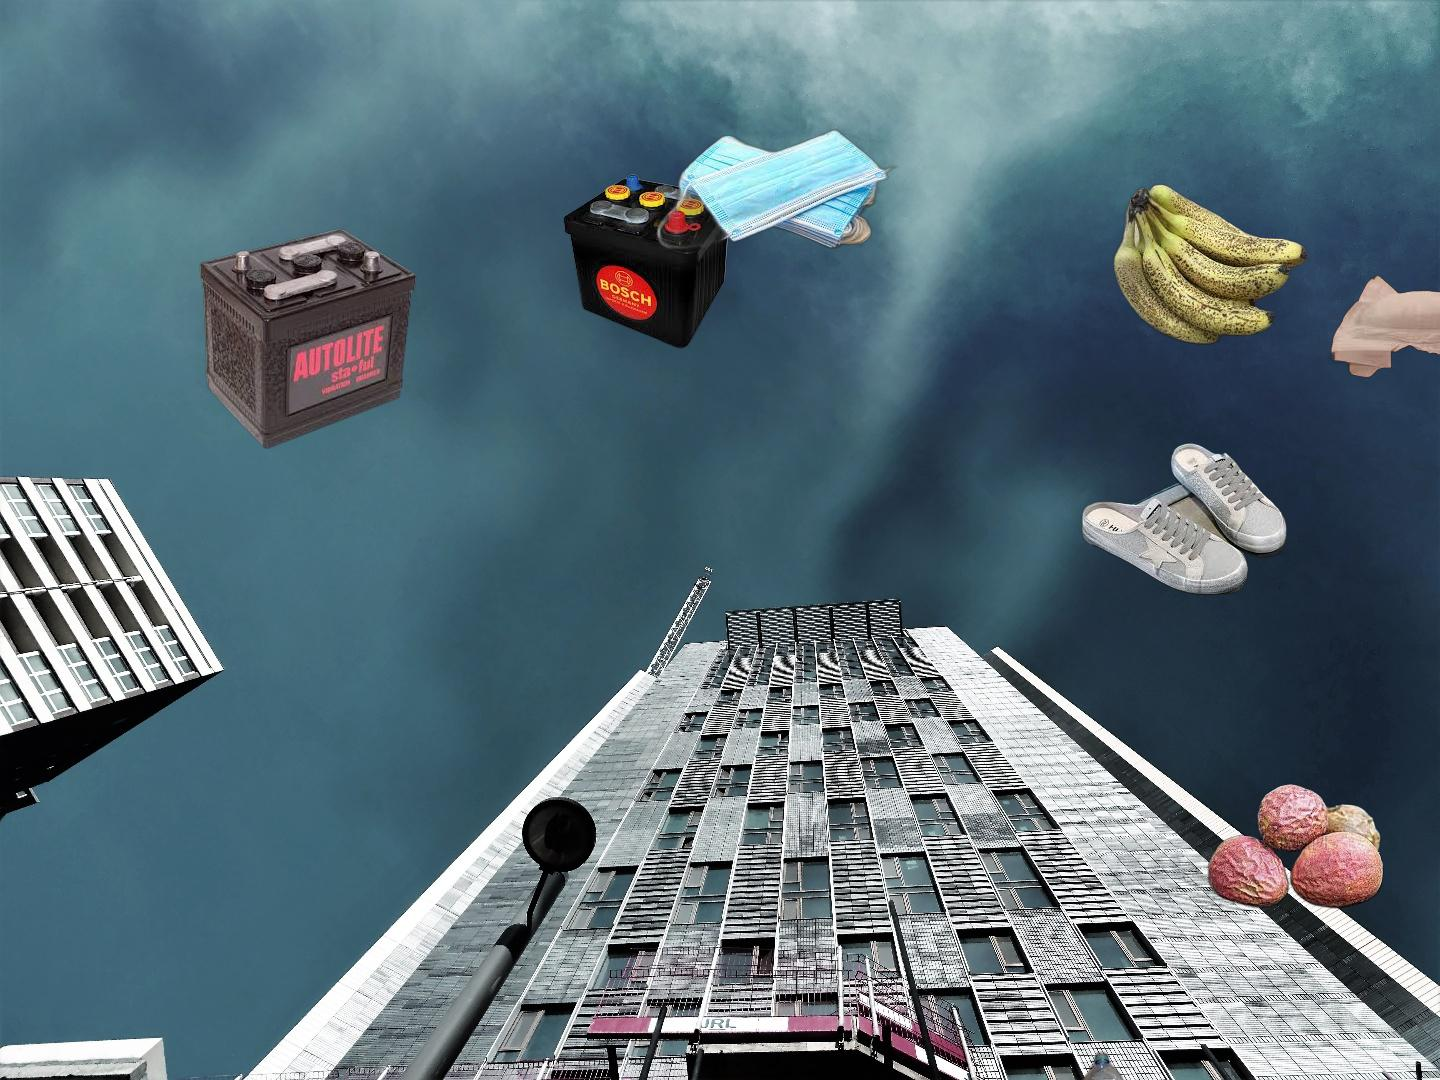battery: (197, 226, 420, 452), (561, 171, 737, 351)
biological: (1110, 182, 1311, 347), (1205, 781, 1386, 911)
plastic-bottles: (1077, 1049, 1140, 1080)
shoes: (1079, 440, 1290, 598)
trash: (653, 127, 903, 260), (1327, 272, 1440, 388)
